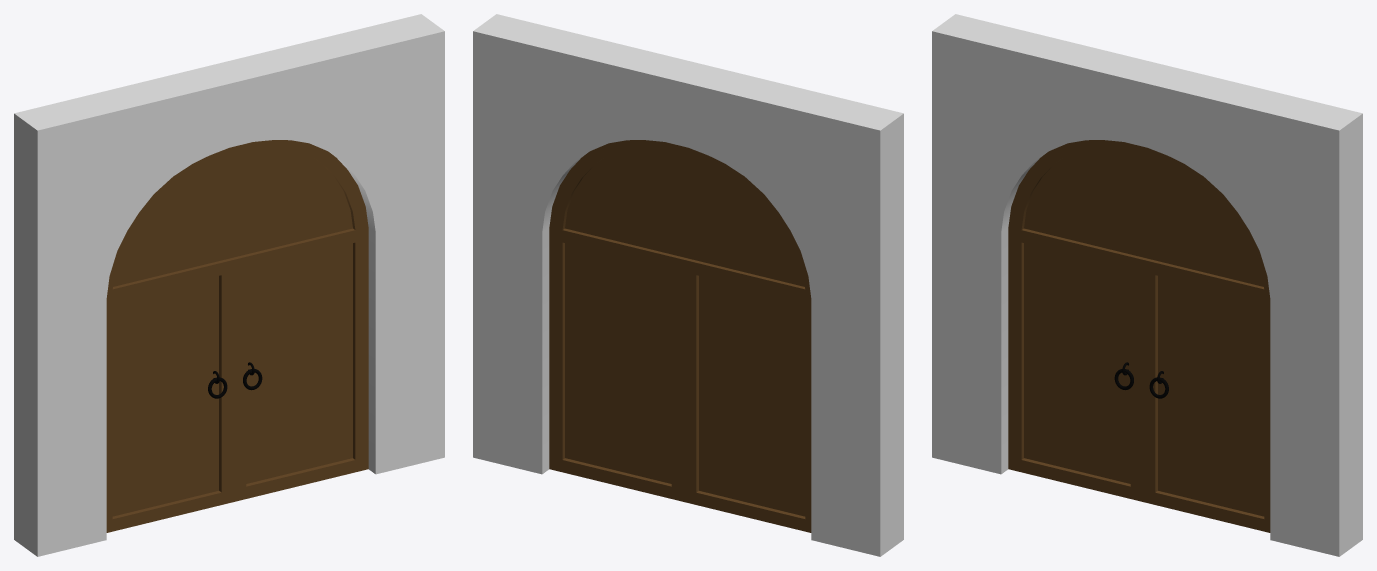
The model's file is door.fbx.
3 views of the same model, side by side, from view 1: azimuth 30°, elevation 25°; view 2: azimuth 150°, elevation 25°; view 3: azimuth 330°, elevation 25° (orthographic).
Parts seen in each view (by area): view 1: Arch, DoorRight, DoorLeft; view 2: Arch, DoorRight, DoorLeft; view 3: Arch, DoorLeft, DoorRight.
Boxes of the visible parts, bbox=[...] form: Arch: bbox=[14, 14, 444, 556]; DoorRight: bbox=[232, 227, 368, 501]; DoorLeft: bbox=[106, 258, 233, 532]; Arch: bbox=[473, 14, 903, 556]; DoorRight: bbox=[549, 227, 685, 501]; DoorLeft: bbox=[684, 258, 811, 532]; Arch: bbox=[932, 14, 1362, 556]; DoorLeft: bbox=[1008, 227, 1144, 501]; DoorRight: bbox=[1143, 258, 1270, 532].
Size of the model in its own units: 200 by 200 by 20.
